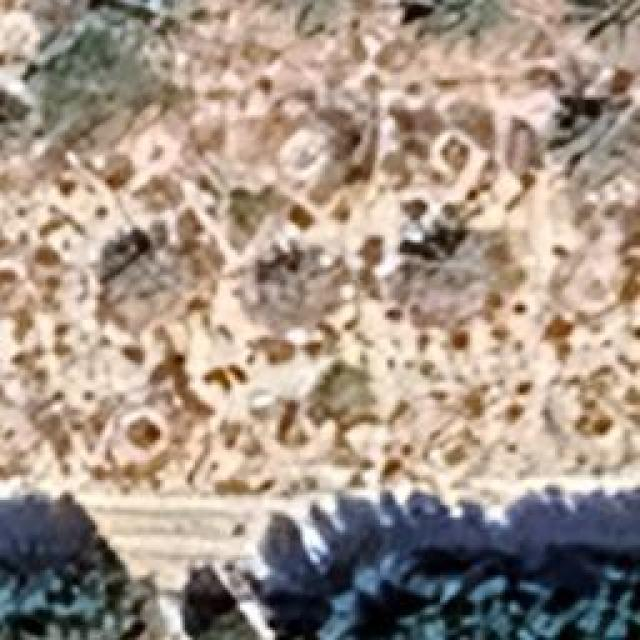PalmTree: (68, 52, 338, 392), (235, 240, 348, 332), (398, 200, 512, 285), (545, 94, 640, 184), (102, 17, 311, 52), (106, 249, 202, 319), (560, 0, 637, 52), (415, 0, 500, 42), (0, 88, 30, 150)
